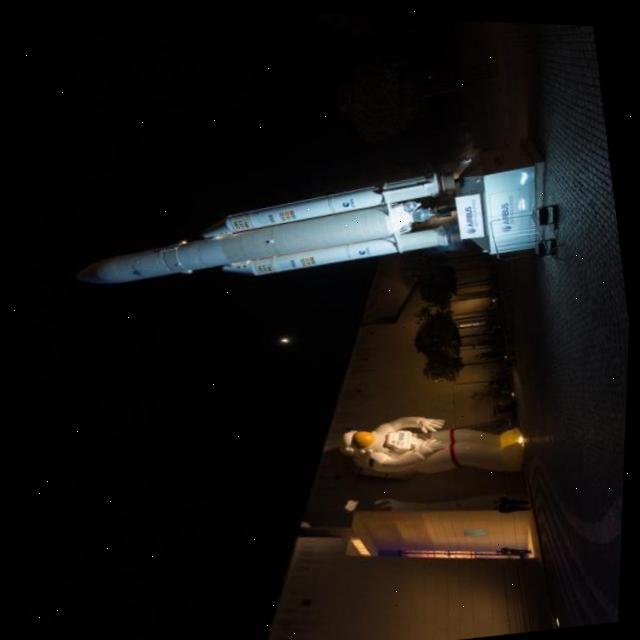missile: (61, 134, 570, 335)
